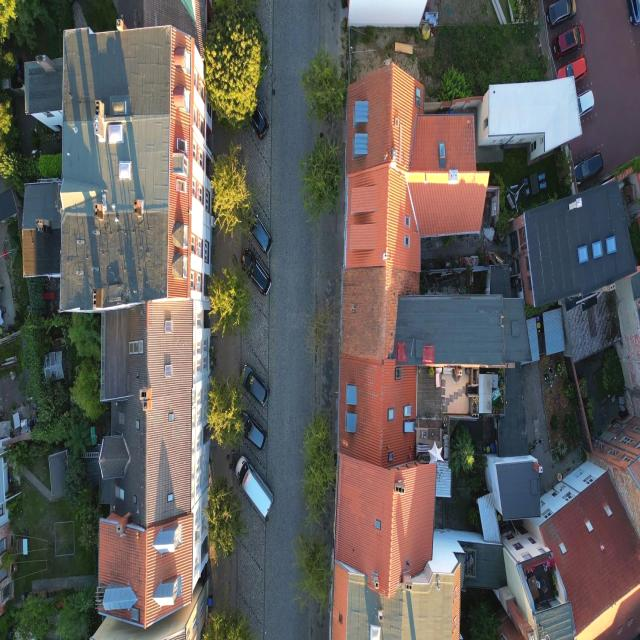Car: (241, 248, 272, 296), (245, 207, 273, 255), (240, 364, 270, 407), (551, 24, 585, 60), (238, 411, 267, 452), (574, 150, 603, 186), (544, 0, 577, 29), (247, 97, 269, 140), (558, 54, 588, 82), (576, 88, 594, 116), (626, 0, 640, 27)
Van: (235, 453, 275, 520)
